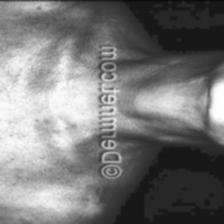Non-Cancerous Skin Condition: (24, 44, 50, 104), (76, 186, 113, 214), (202, 76, 224, 122), (61, 0, 100, 18)
